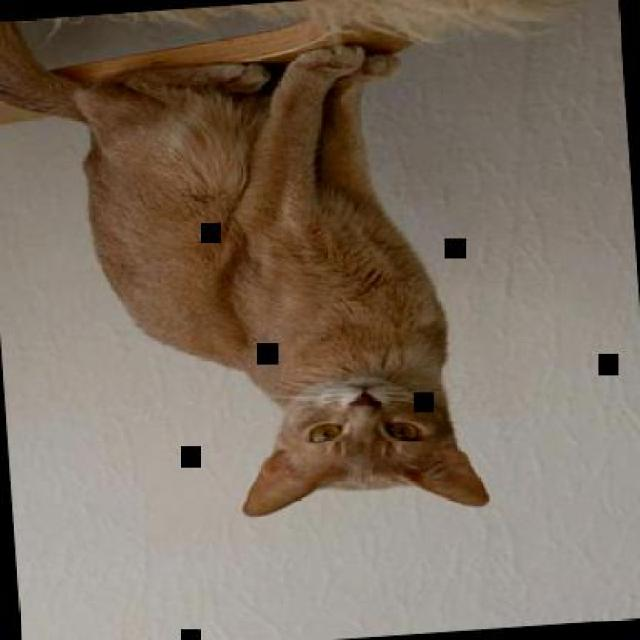cat: (0, 0, 494, 542)
